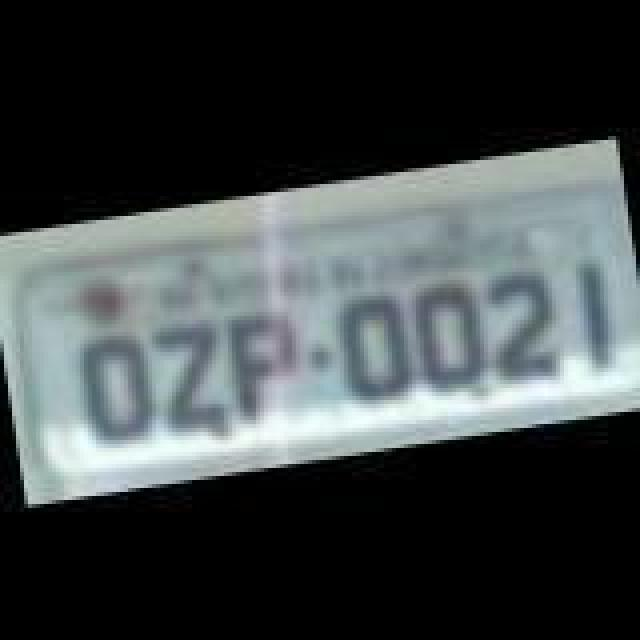1: (566, 250, 618, 374)
2: (476, 260, 564, 380)
O: (324, 286, 412, 402), (70, 330, 154, 446), (408, 272, 488, 392)
P: (224, 304, 304, 424)
Z: (148, 320, 236, 432)
